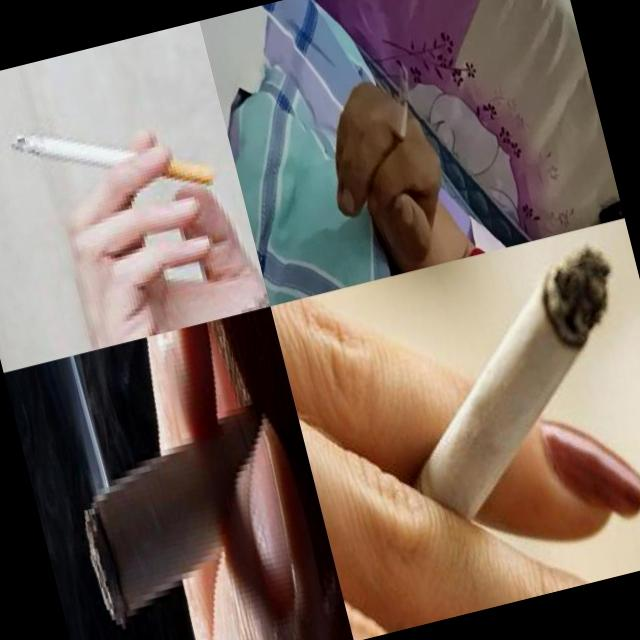cigarette: (357, 236, 640, 526), (63, 400, 308, 632), (4, 88, 218, 230), (374, 62, 426, 154)
